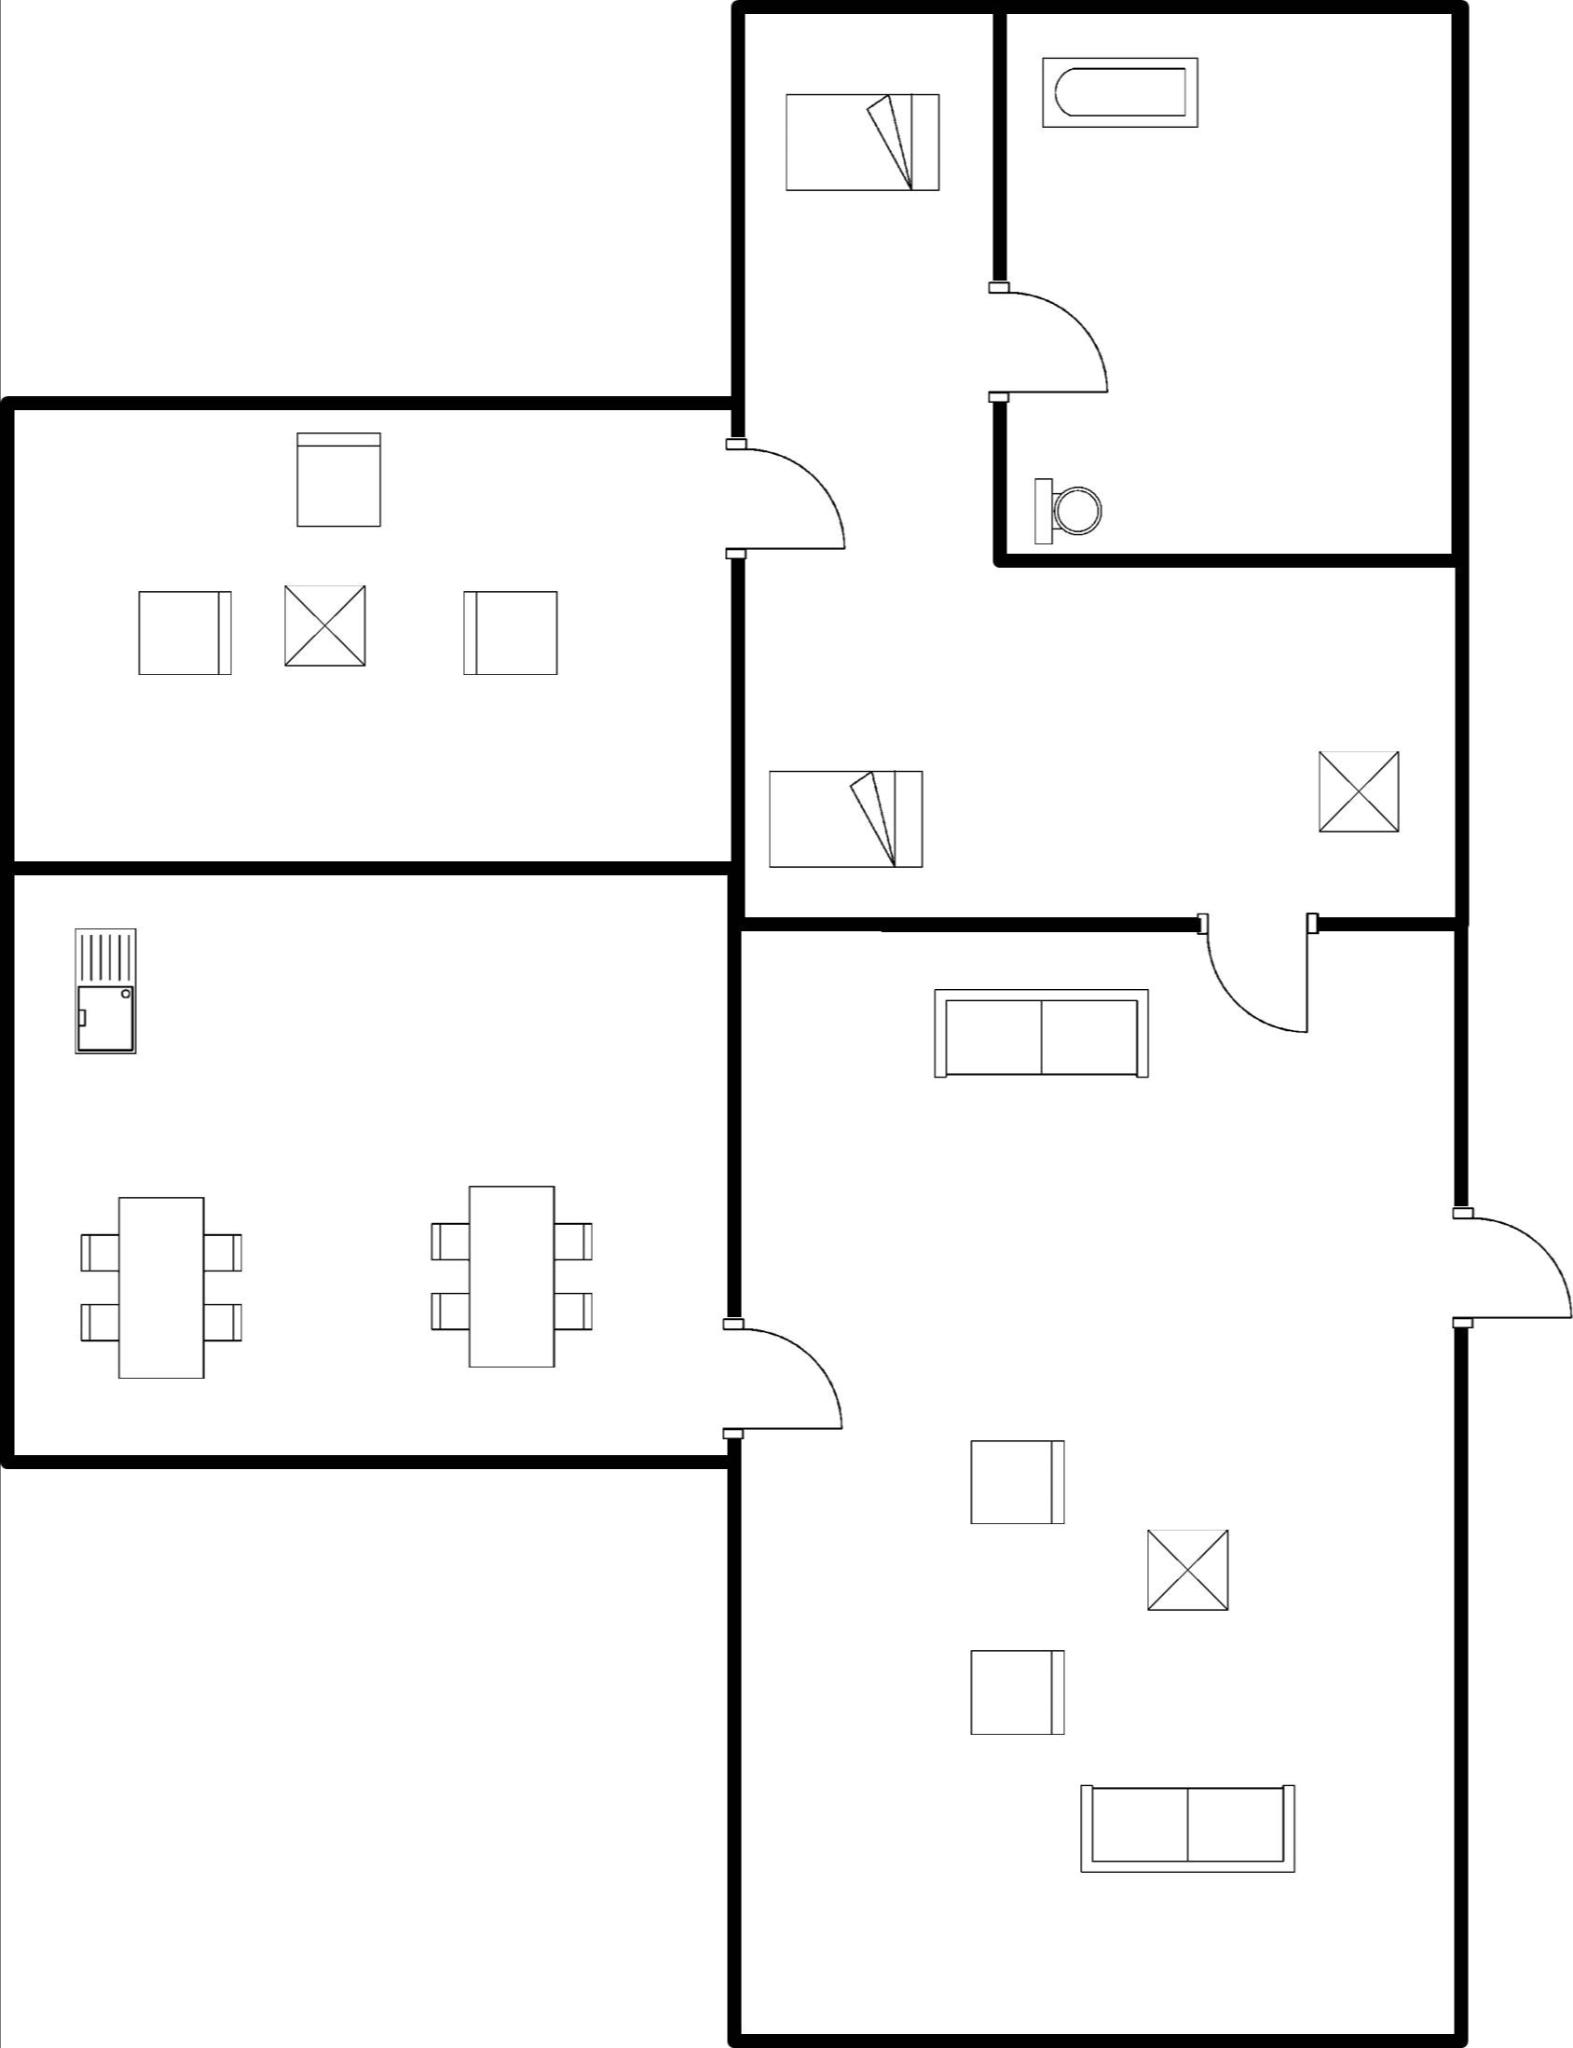bed: (773, 84, 953, 206), (760, 761, 934, 884)
dining_table: (68, 1183, 259, 1396), (421, 1166, 611, 1377)
sink: (56, 913, 154, 1069)
sofa: (917, 971, 1160, 1092), (1067, 1774, 1309, 1888)
toilet: (1023, 466, 1115, 547)
tub: (1033, 40, 1216, 147)
